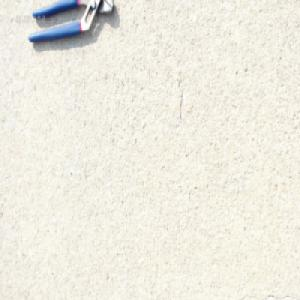Pliers: (27, 0, 117, 46)
